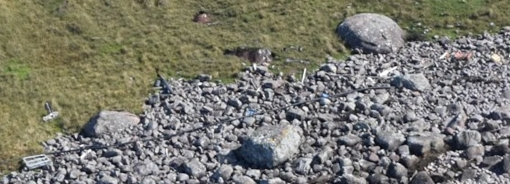scattered_barrel: (434, 40, 507, 71)
tube: (46, 136, 151, 157), (279, 88, 355, 111), (159, 116, 234, 138)
